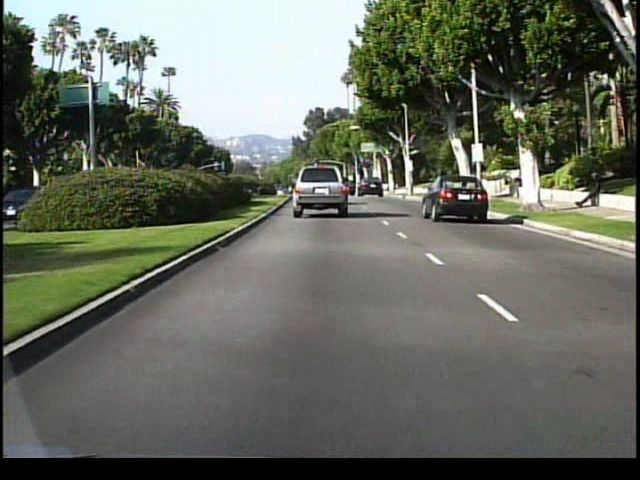person: (577, 169, 605, 214)
